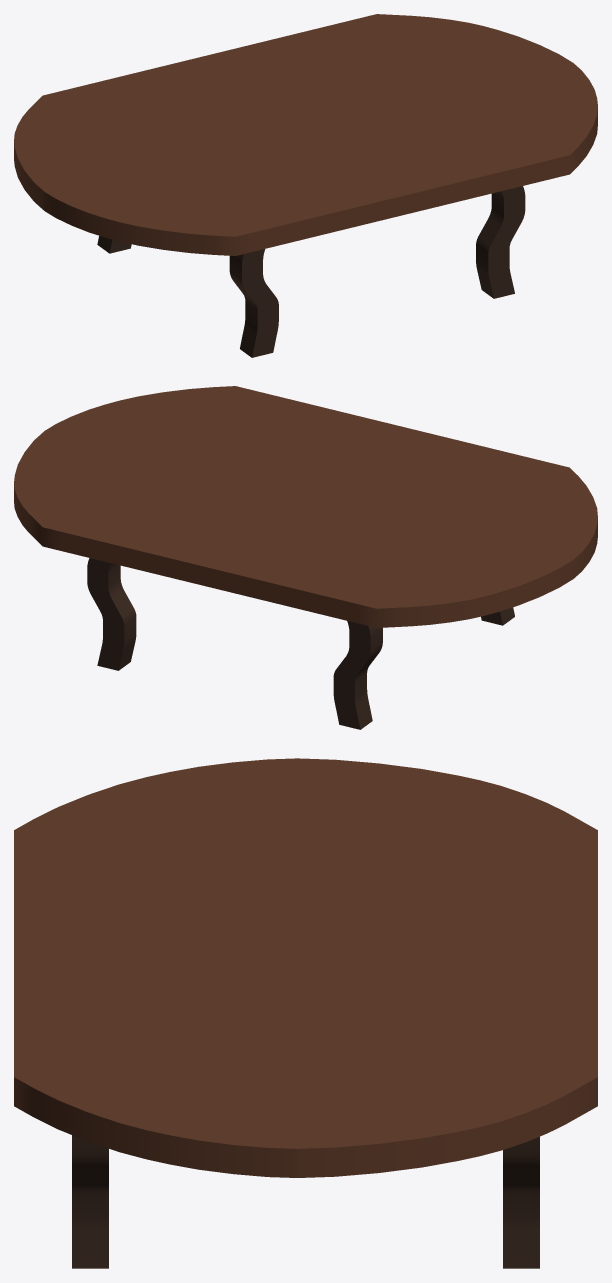
The model's file is TableSullen.fbx.
3 views of the same model, one above another, from view 1: azimuth 30°, elevation 25°; view 2: azimuth 150°, elevation 25°; view 3: azimuth 270°, elevation 25° (orthographic). The views are drawn at different scales.
Visible parts, largest first — view 1: TableSullen; view 2: TableSullen; view 3: TableSullen.
Boxes of the visible parts, bbox=[...] form: TableSullen: bbox=[14, 14, 597, 357]; TableSullen: bbox=[14, 386, 597, 729]; TableSullen: bbox=[14, 758, 597, 1268].
Size of the model in its own units: 226 by 58.83 by 143.
